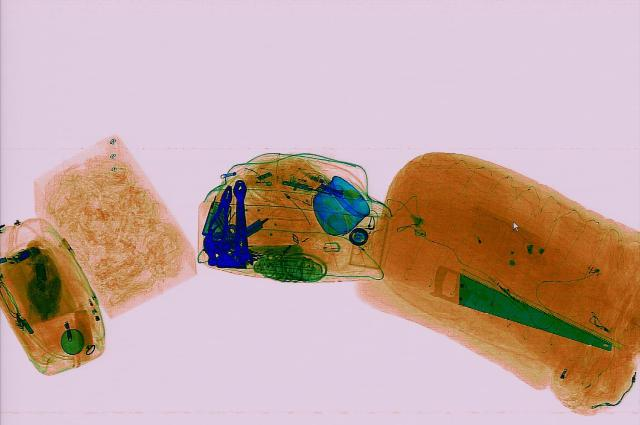Pliers: (202, 184, 238, 241)
Wrench: (228, 178, 256, 265)
